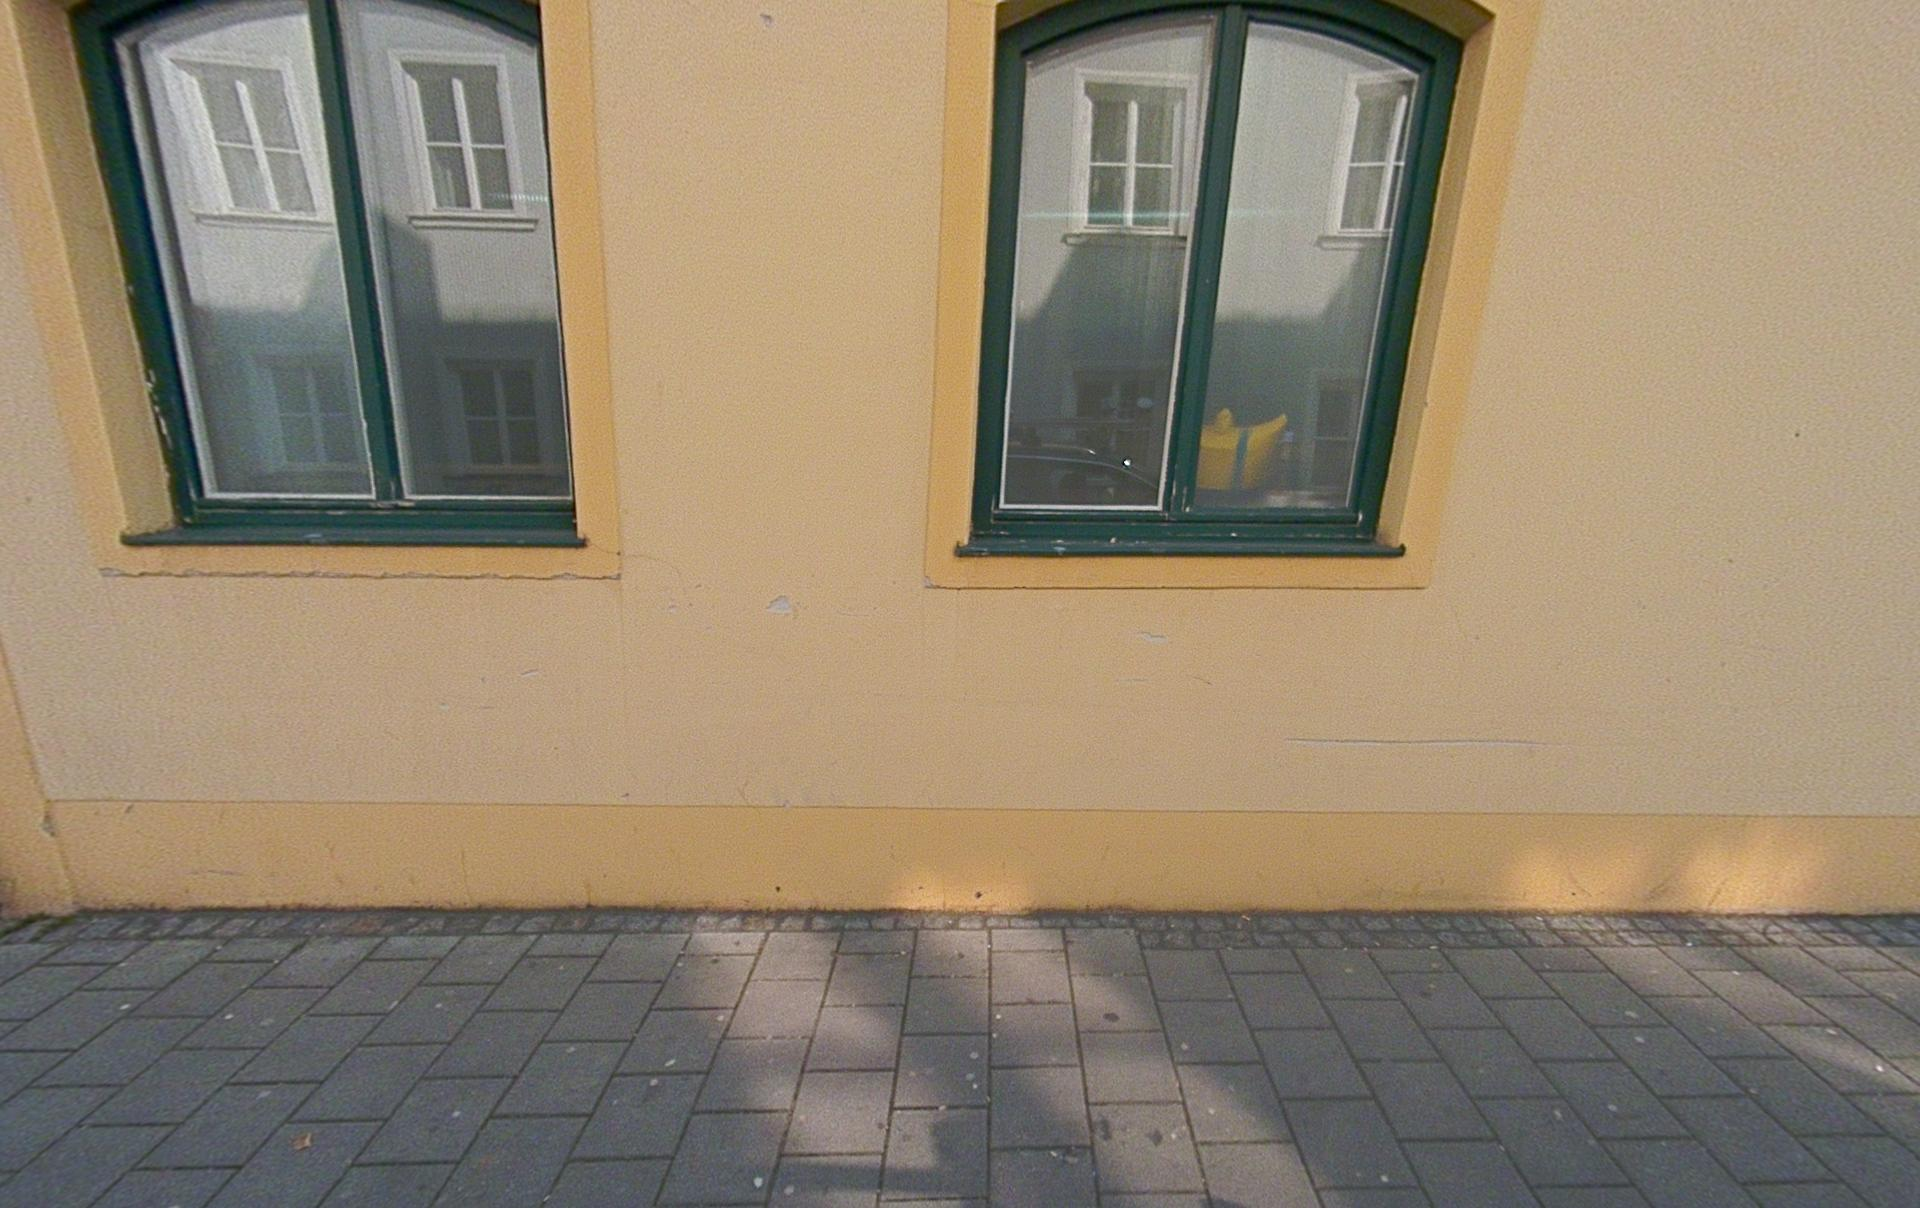car: (1005, 443, 1160, 507)
